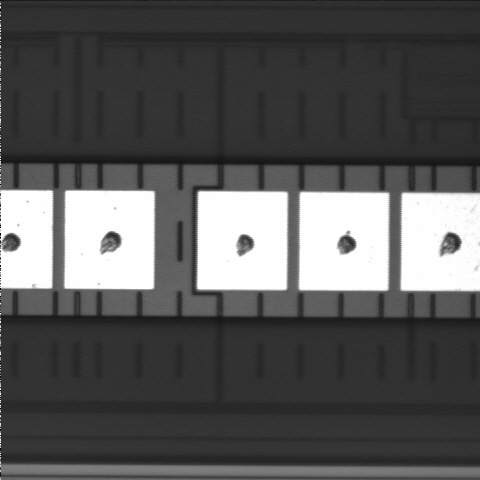pad: (197, 191, 287, 290), (299, 192, 389, 291), (65, 191, 154, 289)
